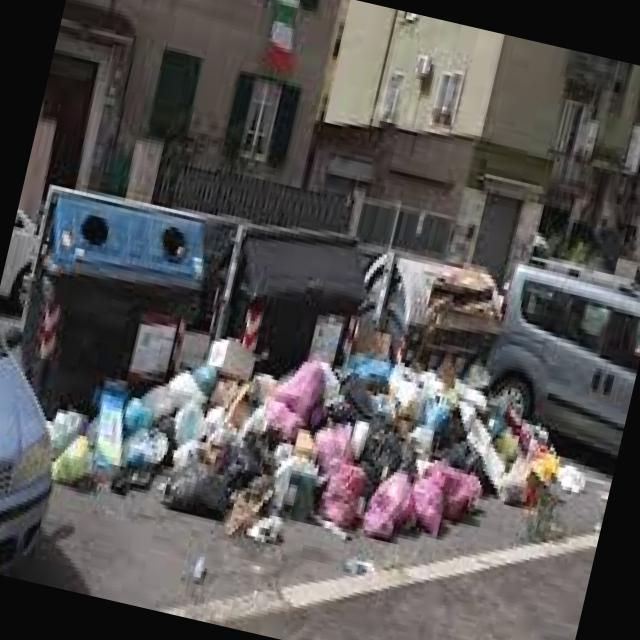garbage: (38, 224, 587, 611)
